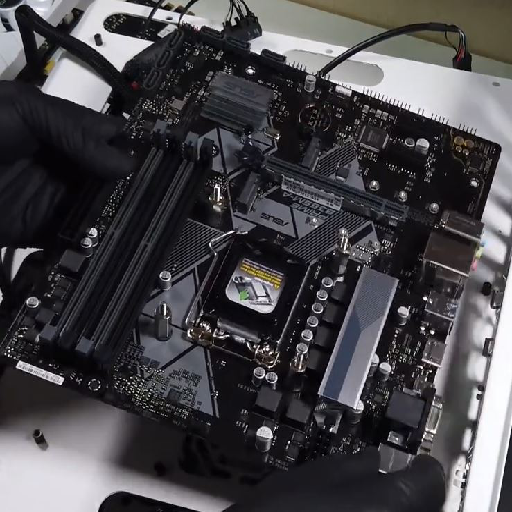CPU: (189, 230, 311, 366)
GPU: (244, 133, 411, 226)
MOTHERBOARD: (1, 28, 502, 490)
RAM: (38, 121, 215, 370)
SSD: (237, 171, 259, 212), (299, 136, 321, 170)
